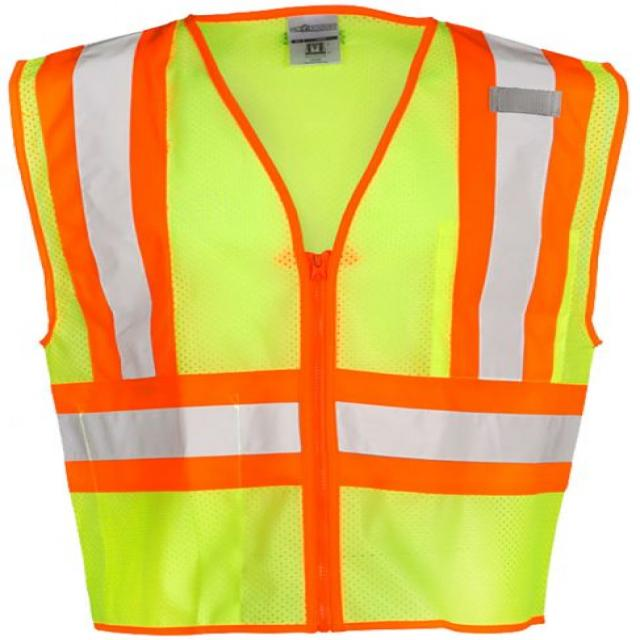Reflective-Jacket: (4, 2, 640, 640)
